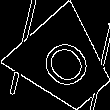O_SE: (31, 30, 97, 96)
